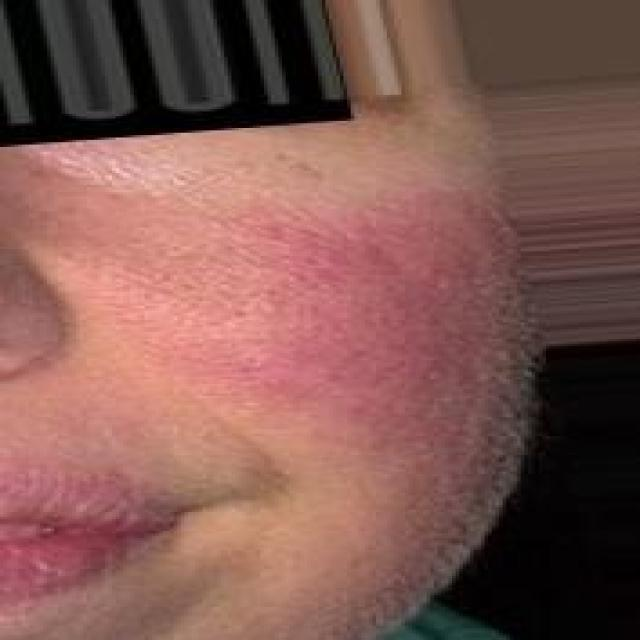Rosacea: (37, 168, 496, 460)
